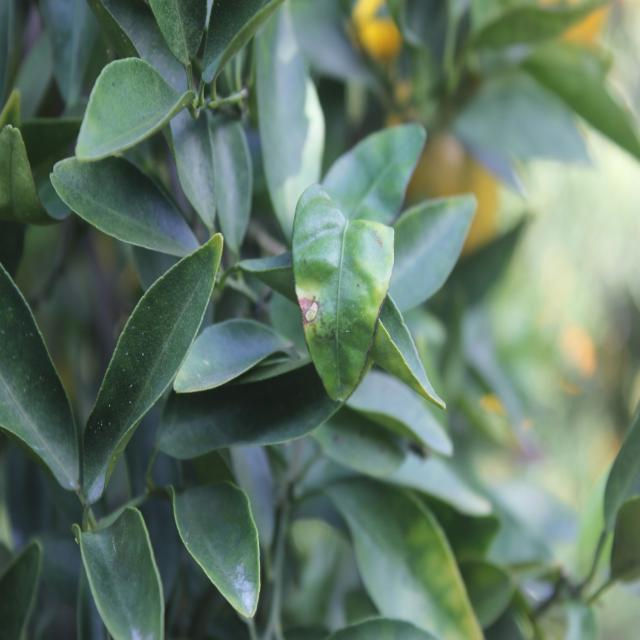canker: (301, 260, 363, 348)
